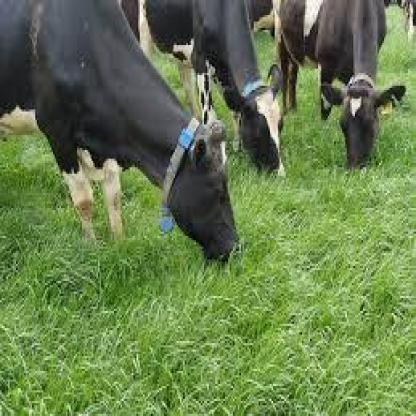cow: (0, 0, 241, 270), (144, 0, 287, 182), (275, 0, 407, 169)
